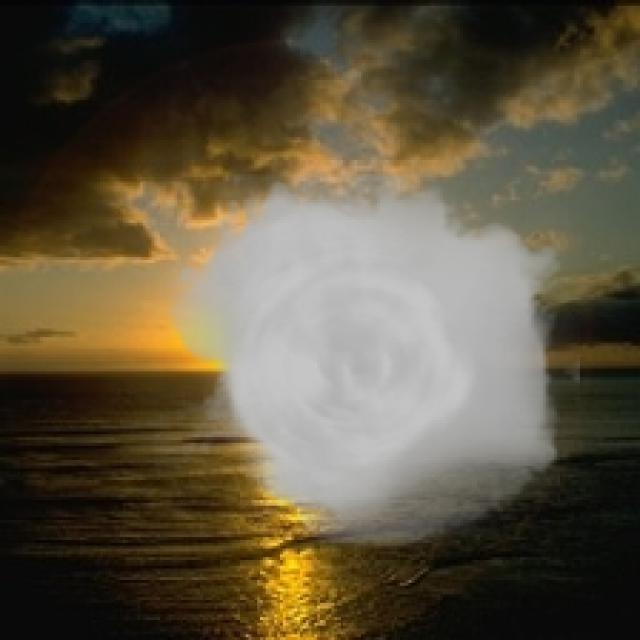smoke: (154, 174, 580, 549)
